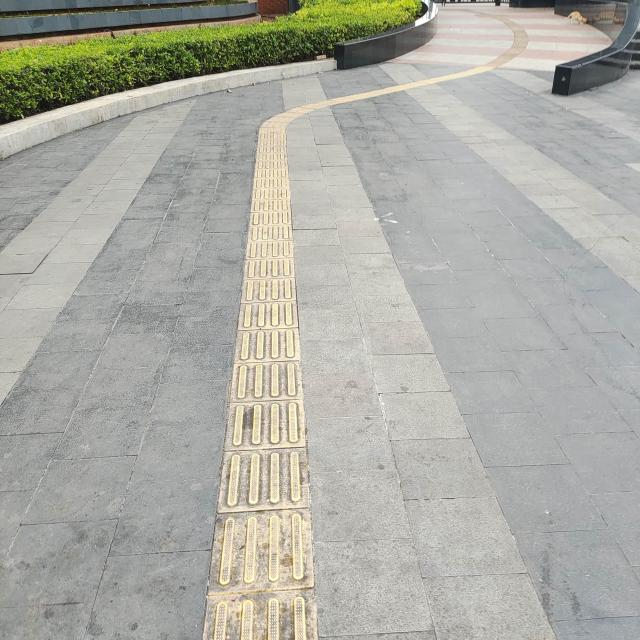lurus: (199, 146, 320, 639)
